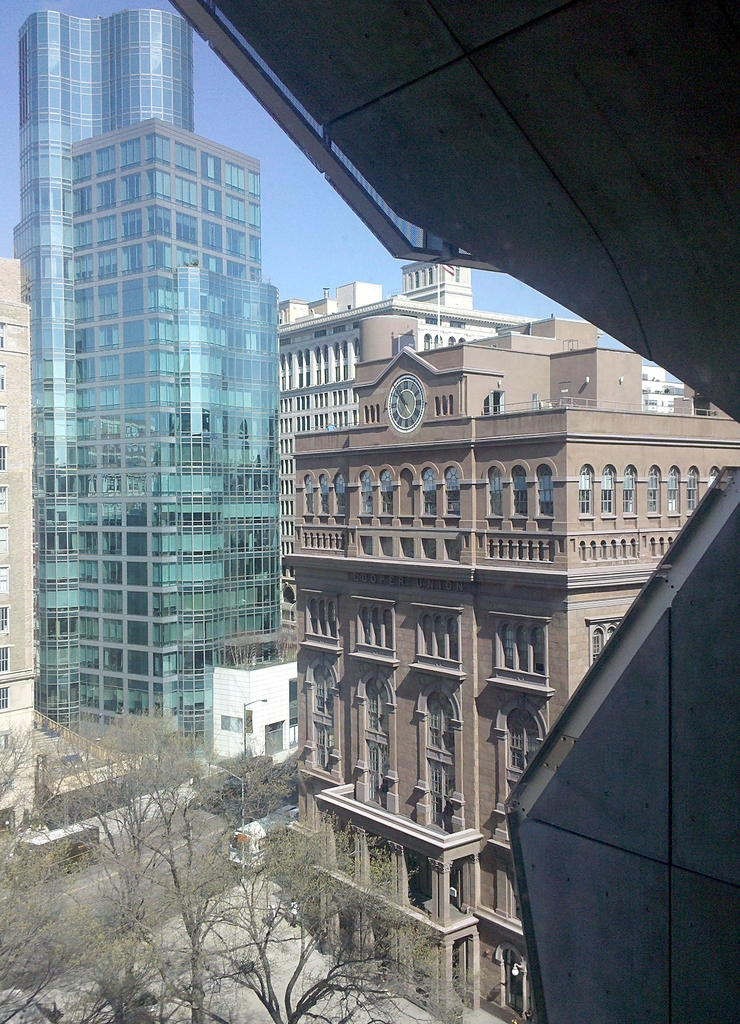Window: (298, 464, 465, 513), (583, 464, 718, 518), (0, 323, 14, 707), (487, 614, 549, 686), (410, 602, 458, 671), (350, 600, 398, 659), (298, 588, 346, 646), (508, 707, 544, 770), (422, 686, 451, 751), (590, 616, 625, 667), (422, 765, 451, 826), (364, 739, 387, 803), (308, 721, 333, 777), (364, 678, 387, 735), (310, 667, 331, 716), (510, 464, 527, 516), (261, 723, 287, 756), (541, 462, 555, 518), (490, 468, 503, 516), (479, 392, 506, 412)
